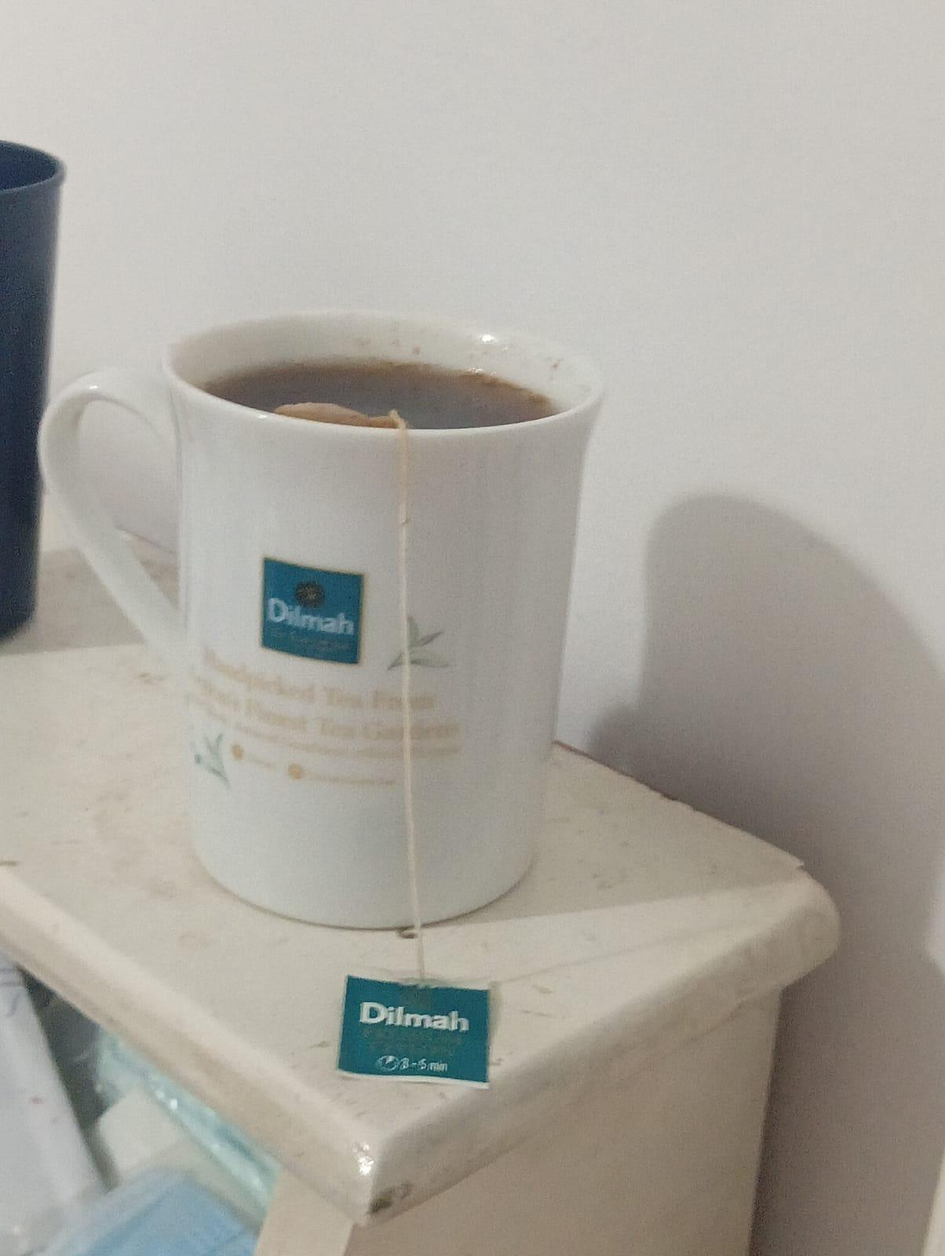cup: (41, 312, 600, 926), (0, 142, 64, 636)
